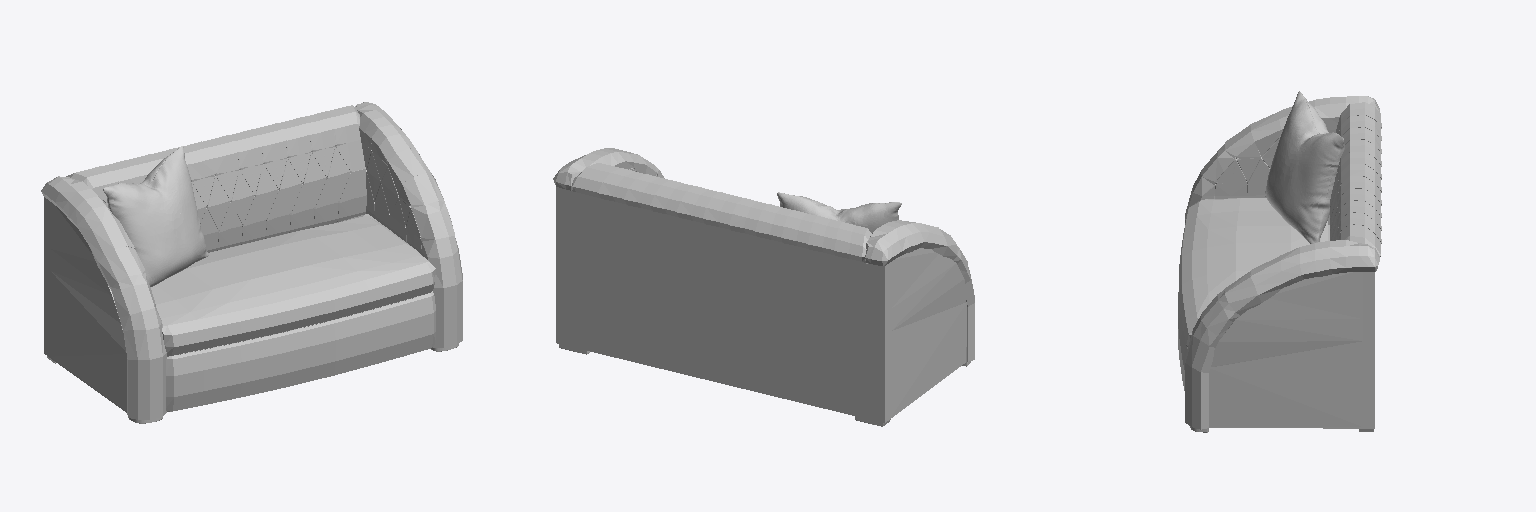
The model's file is RoundSofa.obj.
3 views of the same model, side by side, from view 1: azimuth 30°, elevation 25°; view 2: azimuth 150°, elevation 25°; view 3: azimuth 270°, elevation 25° (orthographic).
Parts seen in each view (by area): view 1: Box002, Box003, Box005, Box001, Box004, Object03; view 2: Box004, Box005, Box003, Object03; view 3: Box004, Box003, Box002, Object03, Box005.
Boxes of the visible parts, x1,y1,x2,y2 form: Box002: [151, 214, 435, 355]; Box003: [41, 102, 462, 419]; Box005: [66, 105, 366, 252]; Box001: [166, 292, 435, 411]; Box004: [44, 197, 126, 412]; Object03: [103, 146, 208, 286]; Box004: [556, 187, 966, 422]; Box005: [572, 163, 871, 263]; Box003: [553, 148, 974, 361]; Object03: [777, 192, 901, 232]; Box004: [1209, 272, 1374, 428]; Box003: [1185, 96, 1379, 429]; Box002: [1179, 198, 1327, 347]; Object03: [1265, 91, 1344, 243]; Box005: [1330, 102, 1381, 256].
Size of the model in its own units: 1657 by 911 by 867.